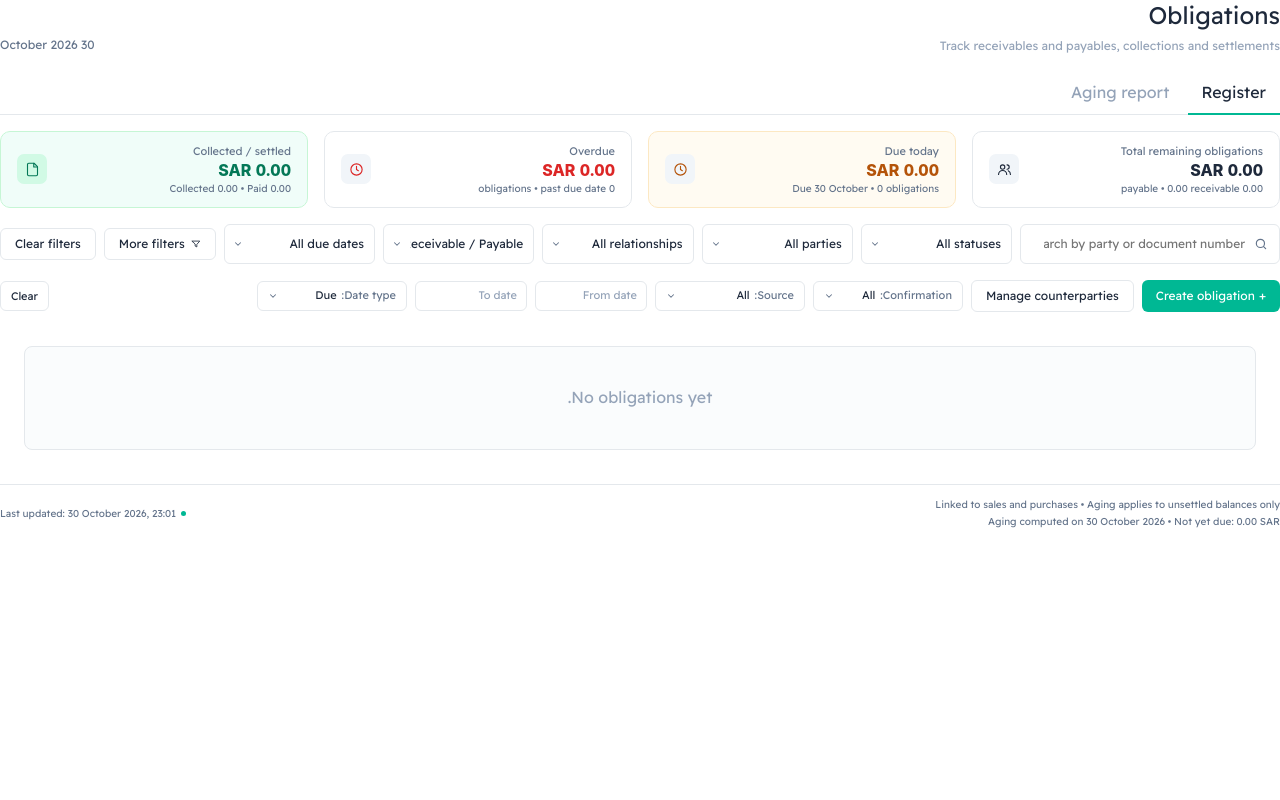
it: Obligations workspace › opens scoped counterparty and obligation dialogs with manage capability
This screenshot has width=1280, height=800.
Step 1. Click the button "Manage counterparties" → [1052, 296], box [971,280,1134,312]
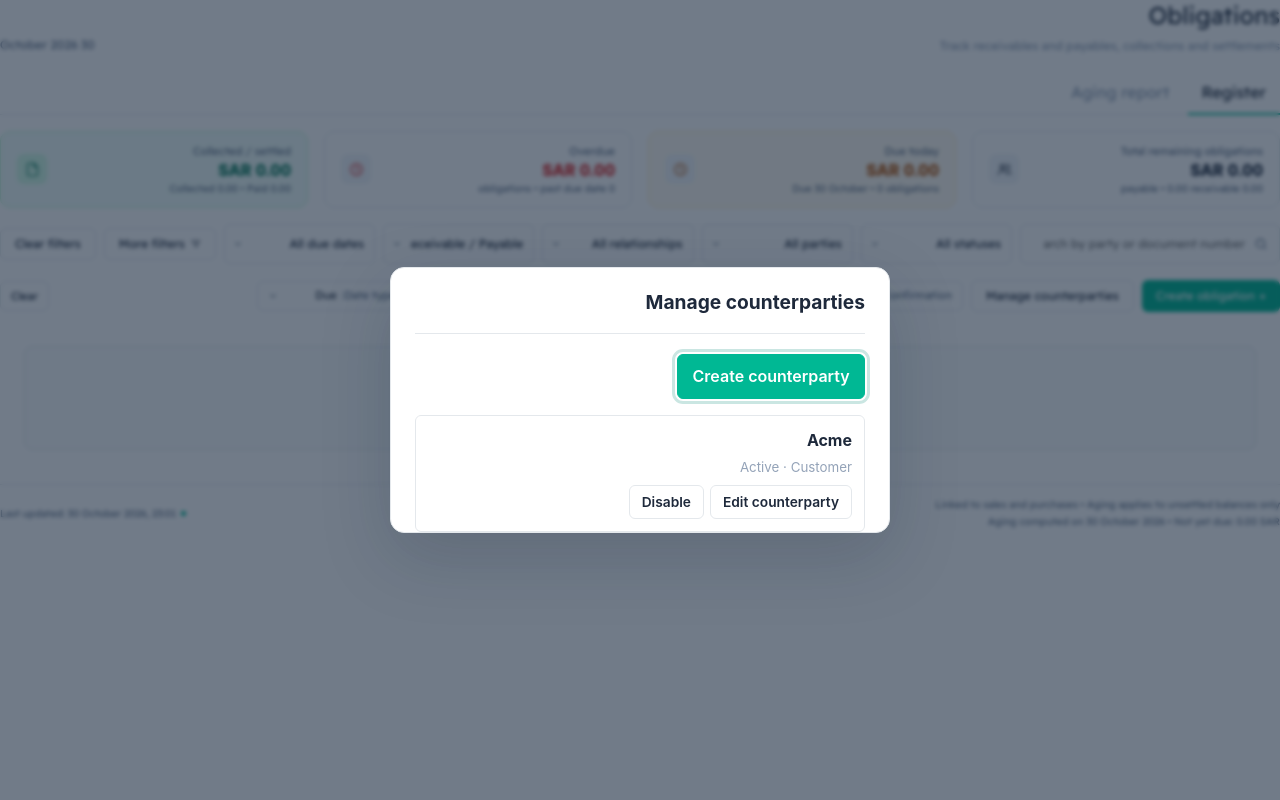
Expected: the button "Create counterparty" is shown
Step 2. Click the button "Create counterparty" → [771, 377], box [677,354,865,399]
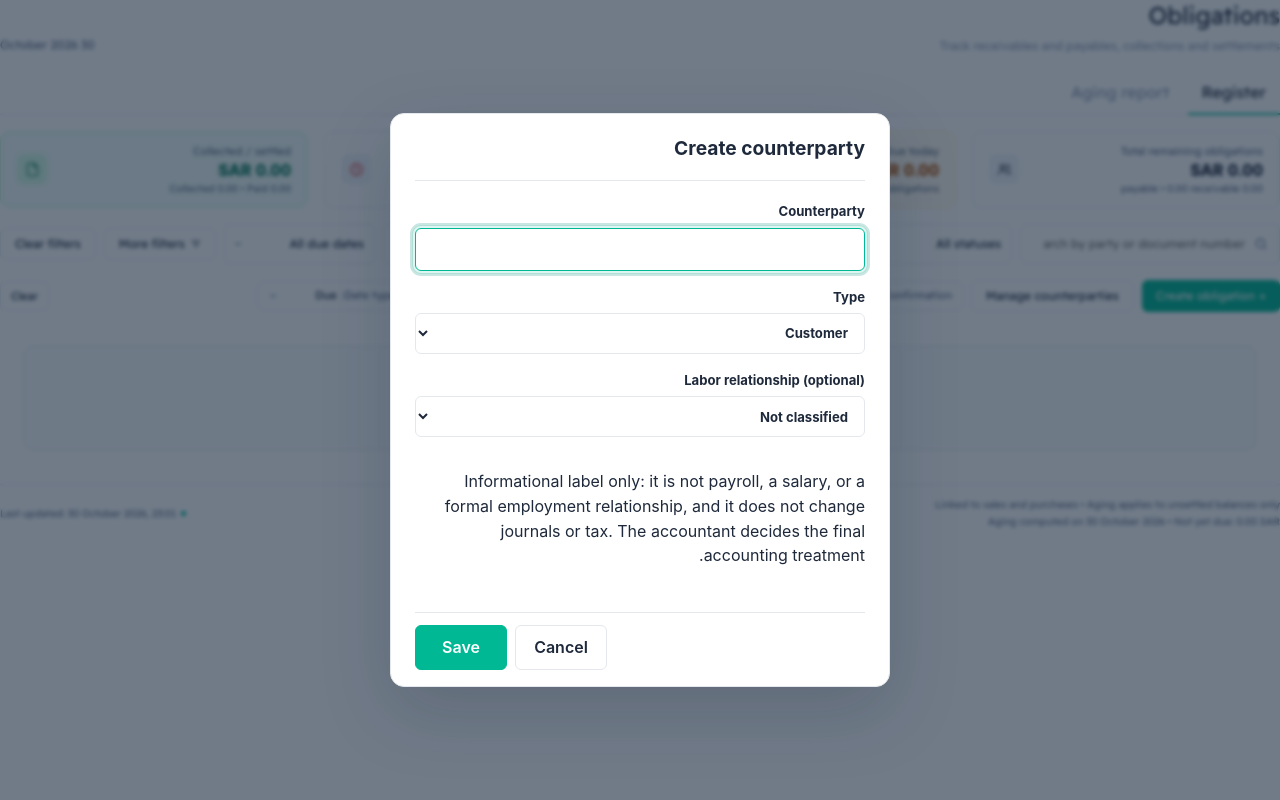
Expected: the field labelled "Counterparty" is shown, [415,228,865,271]
Step 3. Press Escape
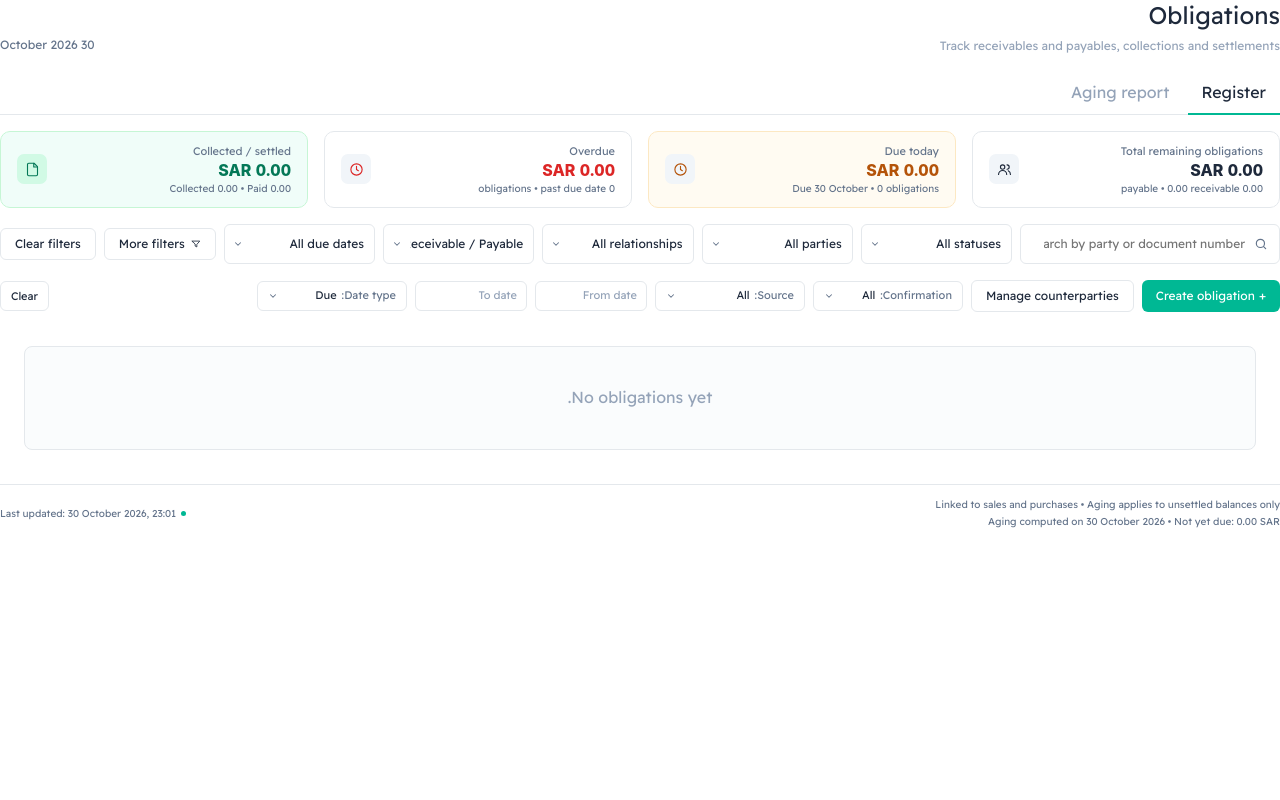
Step 4. Click the button "+ Create obligation" → [1211, 296], box [1142,280,1279,312]
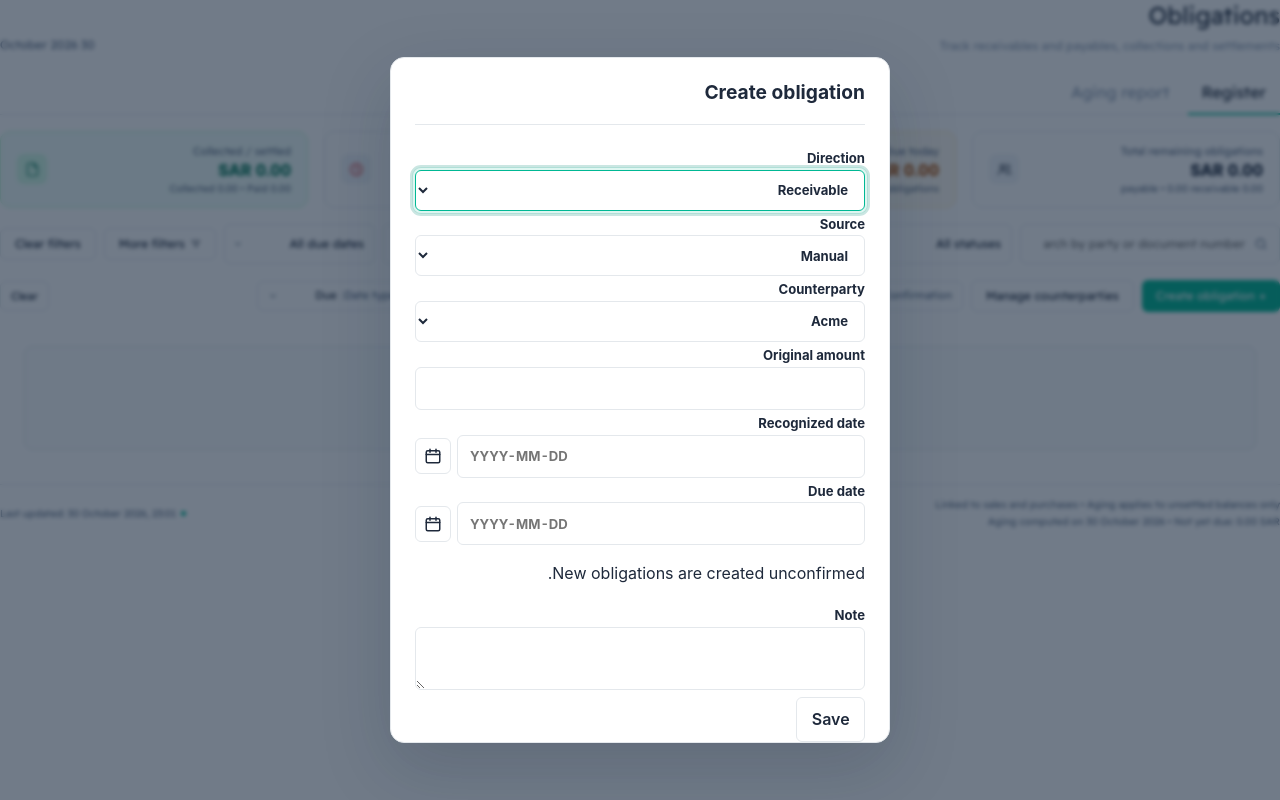
Expected: the field labelled "Original amount" is shown, [415,367,865,410]
